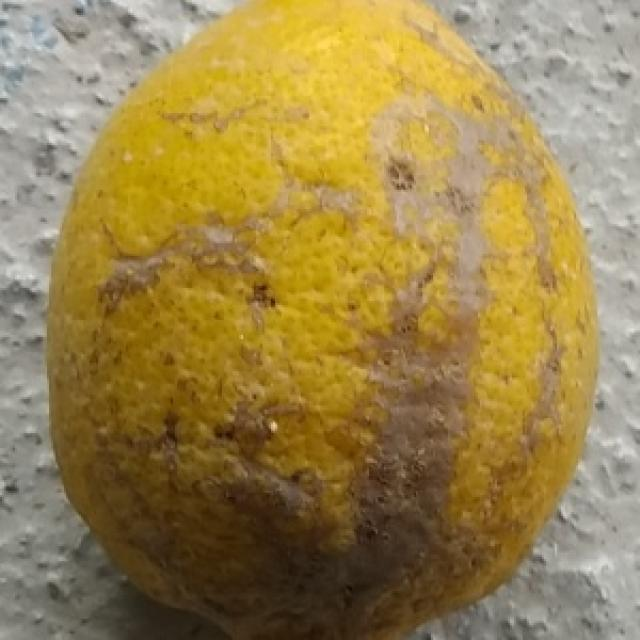overripe: (44, 0, 606, 640)
